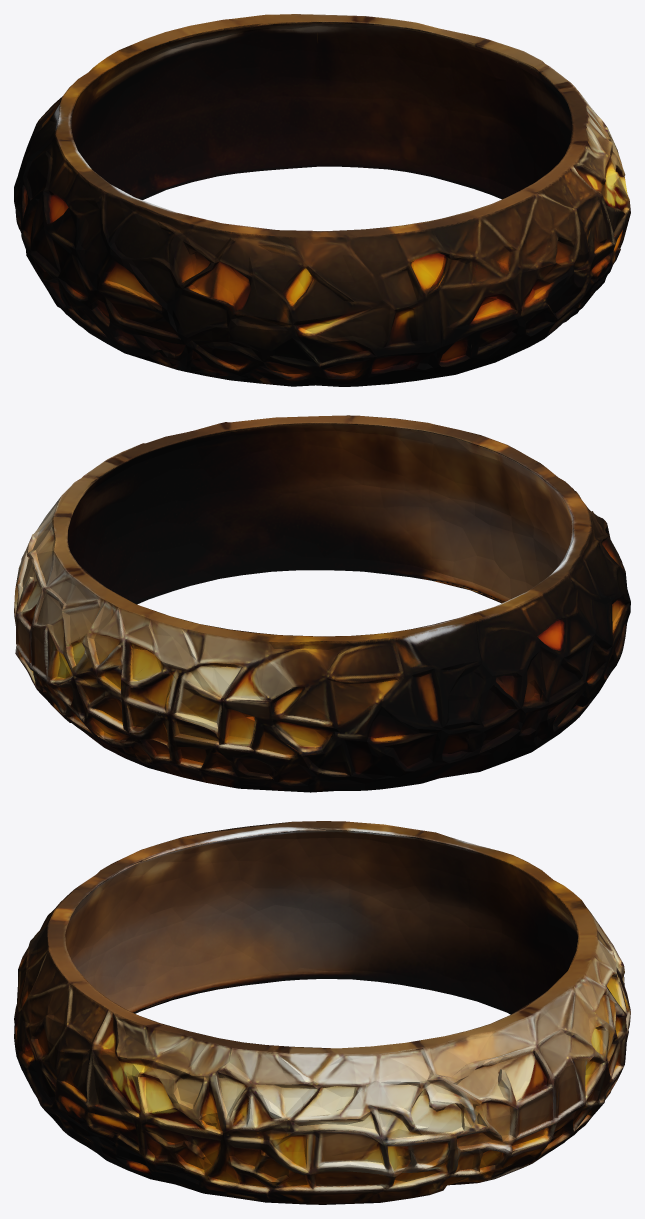
Rendered from coconut-shell-bracelet-futuristic.jpeg.glb.
3 renders of one model, top to bottom at view 1: azimuth 30°, elevation 25°; view 2: azimuth 150°, elevation 25°; view 3: azimuth 270°, elevation 25°, orthographic.
Parts seen in each view (by area): view 1: world; view 2: world; view 3: world.
Boxes of the visible parts, x1,y1,x2,y2 form: world: (14, 14, 630, 386); world: (14, 415, 630, 792); world: (14, 821, 630, 1204).
Bounding box in the file's own units: 0.9967 × 0.273 × 0.996.
Materials: 1 (1 with a texture image).
